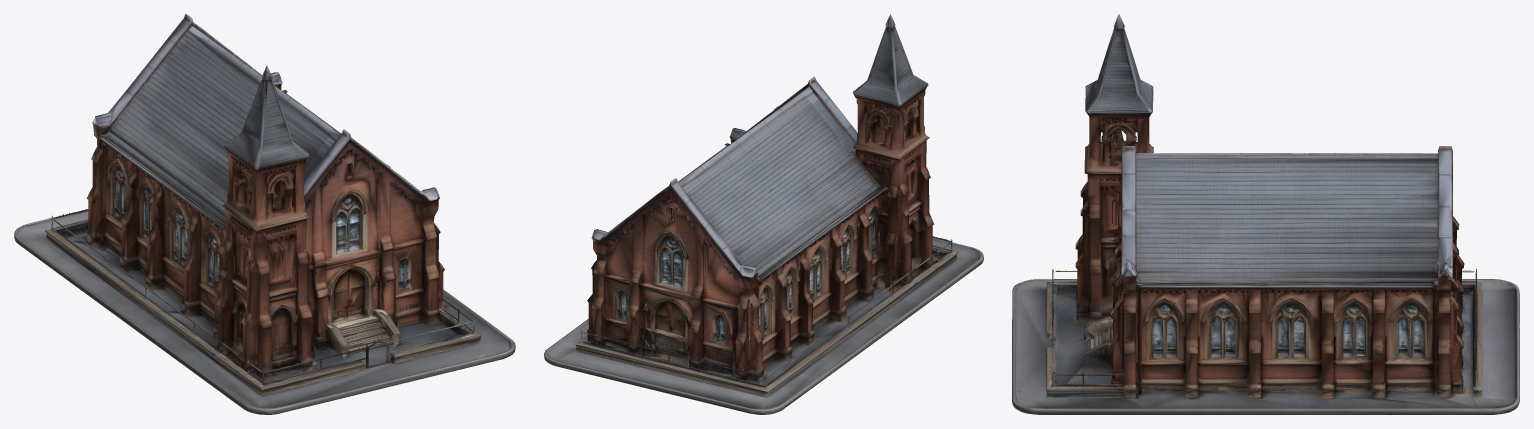
The model's file is brick_church.glb.
The picture shows the model from 3 angles, left to right: view 1: azimuth 30°, elevation 25°; view 2: azimuth 150°, elevation 25°; view 3: azimuth 270°, elevation 25°; orthographic projection. The views are drawn at different scales.
Parts seen in each view (by area): view 1: node_0; view 2: node_0; view 3: node_0.
Boxes of the visible parts, x1,y1,x2,y2 form: node_0: [14, 14, 515, 414]; node_0: [544, 14, 983, 414]; node_0: [1012, 14, 1519, 414].
Bounding box in the file's own units: 0.5643 × 0.6023 × 0.9208.
1 material, 1 textured.
